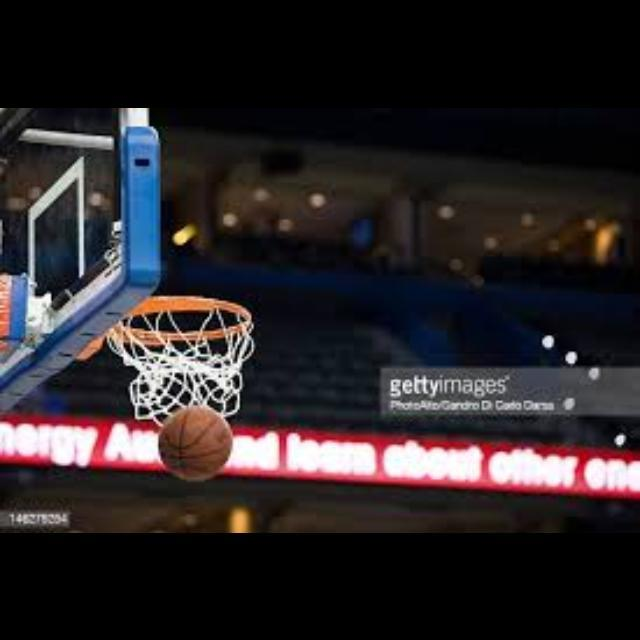basketball: (160, 408, 232, 479)
rim: (114, 292, 252, 403)
